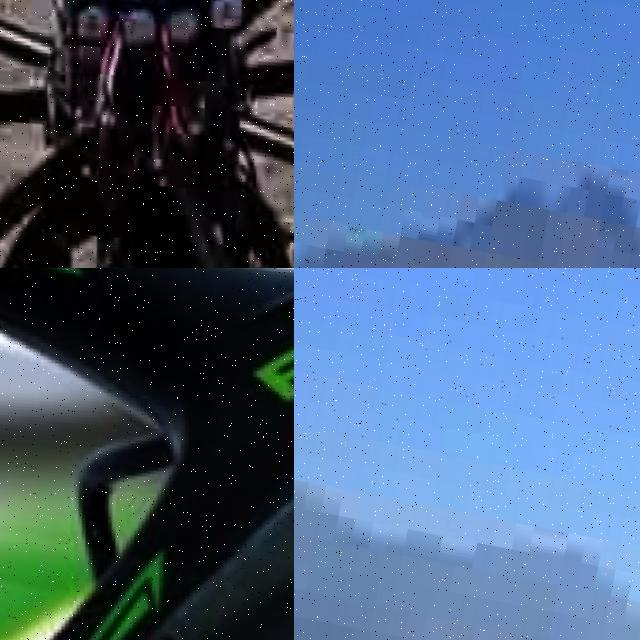0: (0, 0, 294, 268)
drone: (0, 268, 294, 640)
